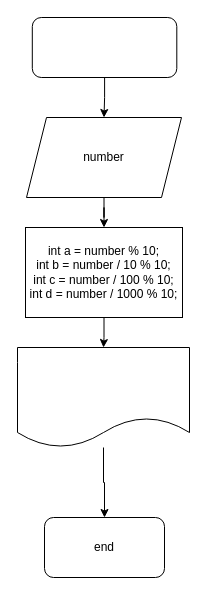
Image size: 207x595. Some labels were removed from this diagram. The shapes that lost their labels are listed below. From the top down, each one's centre as x and y in pixels, then its label:
point (104, 47): start
point (103, 397): number-də olan ədədlərinin cəmi
